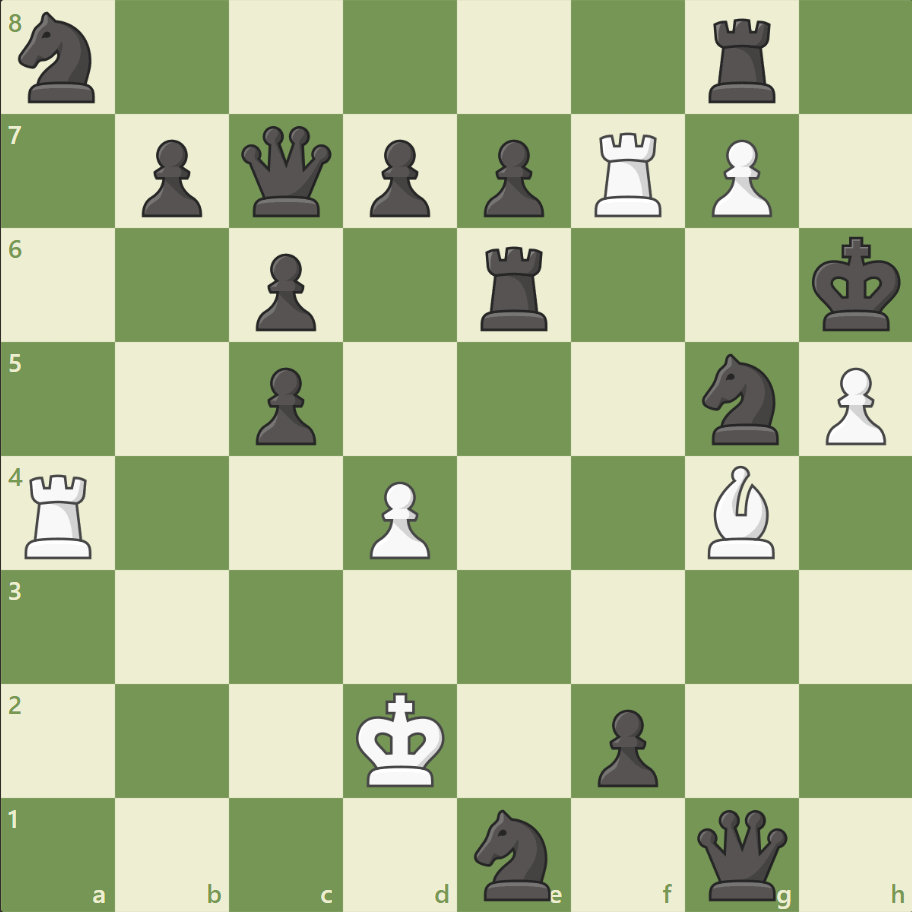B: (698, 460, 782, 563)
K: (351, 685, 451, 793)
P: (701, 132, 776, 223), (815, 359, 889, 450), (361, 473, 435, 564)
R: (587, 125, 670, 222), (19, 466, 102, 563)
k: (806, 231, 906, 339)
n: (11, 7, 108, 110), (692, 348, 789, 450), (465, 802, 562, 904)
p: (133, 132, 208, 223), (474, 132, 549, 223), (247, 246, 322, 337), (247, 359, 322, 450), (361, 132, 435, 223), (588, 700, 662, 791)
q: (237, 122, 336, 222), (691, 804, 790, 903)
r: (700, 12, 783, 109), (473, 239, 556, 336)
